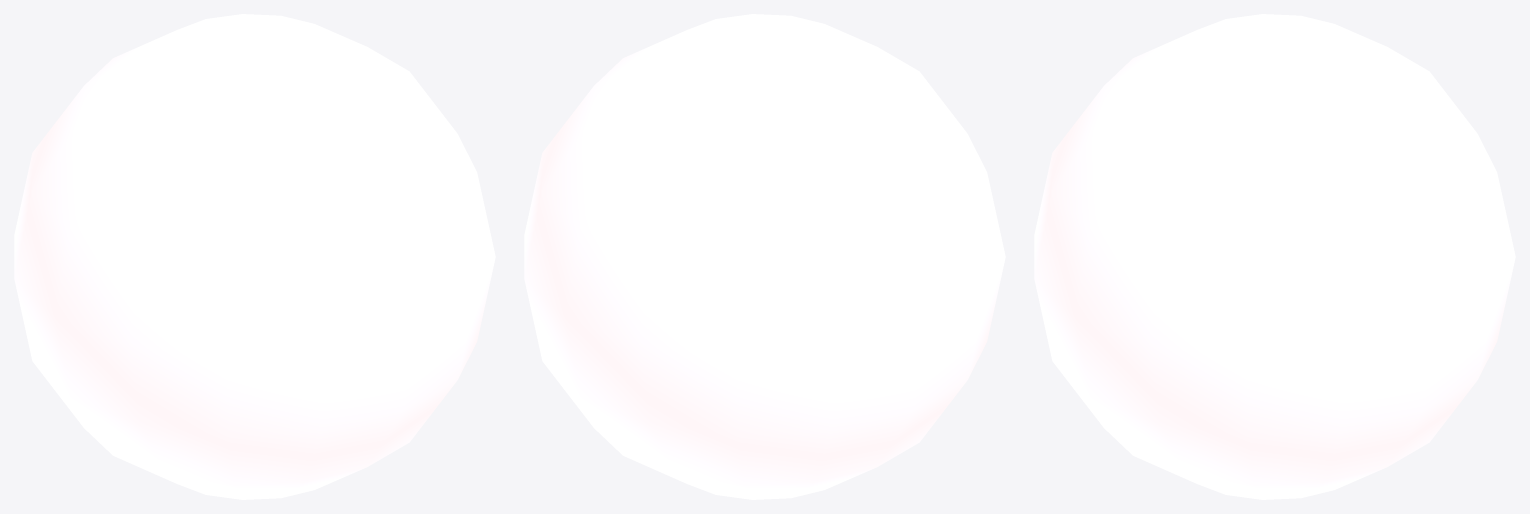
File: object_bouncing_sphere.glb
3 renders of one model, left to right at view 1: azimuth 30°, elevation 25°; view 2: azimuth 150°, elevation 25°; view 3: azimuth 270°, elevation 25°, orthographic.
Visible parts, largest first — view 1: bouncing_sphere; view 2: bouncing_sphere; view 3: bouncing_sphere.
Part boxes in pixels (left/top/right/bottom): bouncing_sphere: left=14, top=14, right=495, bottom=499; bouncing_sphere: left=524, top=14, right=1005, bottom=499; bouncing_sphere: left=1034, top=14, right=1515, bottom=499.
Size of the model in its own units: 0.0995 by 0.1 by 0.0989.
